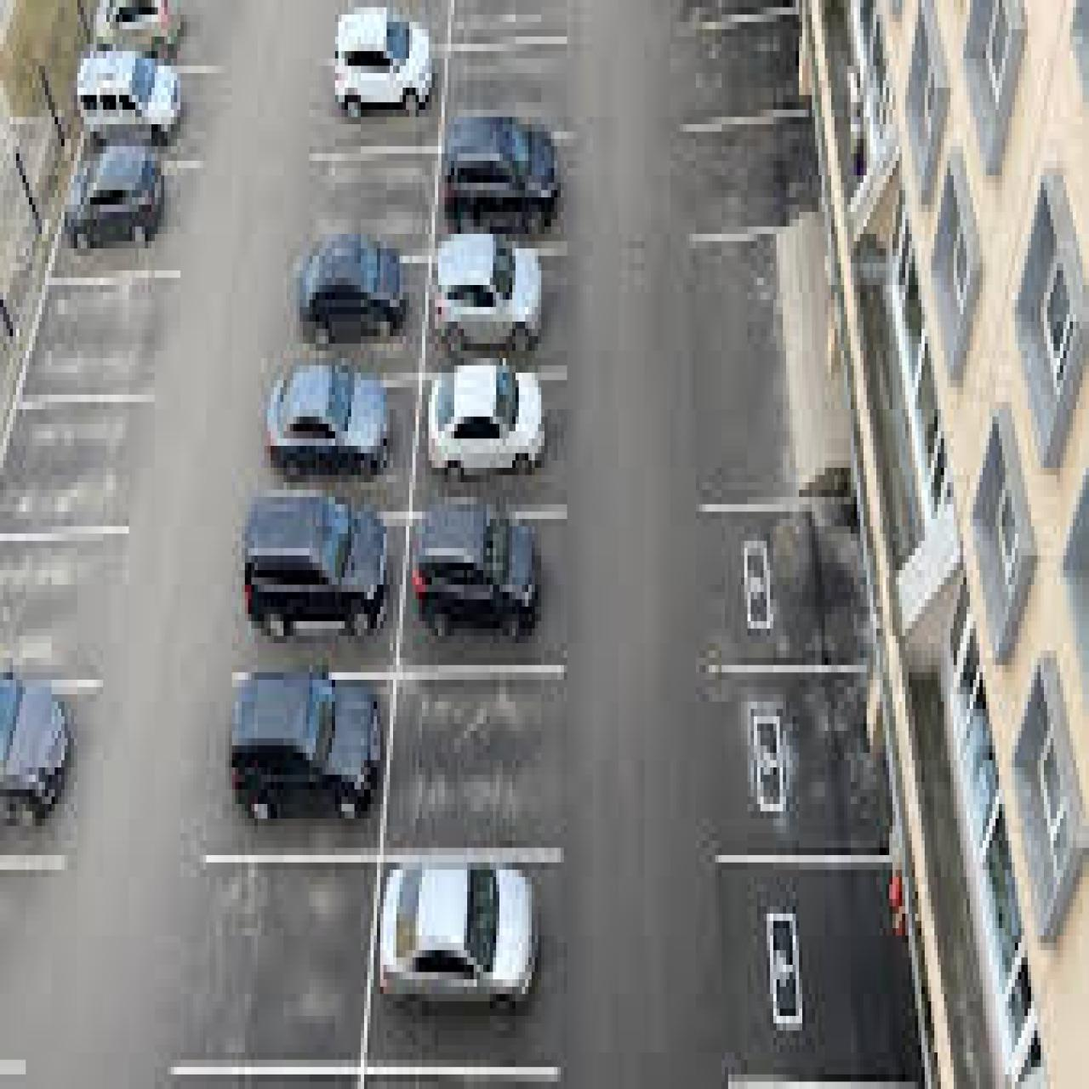cars: (367, 866, 551, 1056), (229, 672, 390, 826), (401, 508, 562, 647), (248, 512, 403, 650), (416, 376, 574, 486), (0, 687, 97, 855), (268, 387, 416, 497), (429, 248, 574, 358), (295, 252, 423, 369), (73, 157, 189, 260), (438, 135, 573, 223), (79, 73, 204, 153), (332, 36, 448, 117), (85, 0, 201, 66)
empty: (707, 866, 914, 1063), (197, 855, 371, 1052), (392, 665, 569, 848), (702, 676, 886, 844), (694, 501, 868, 661), (0, 526, 123, 673), (0, 391, 139, 508), (29, 271, 168, 380), (691, 113, 814, 223), (316, 132, 448, 234), (683, 19, 815, 113), (448, 33, 564, 128)
